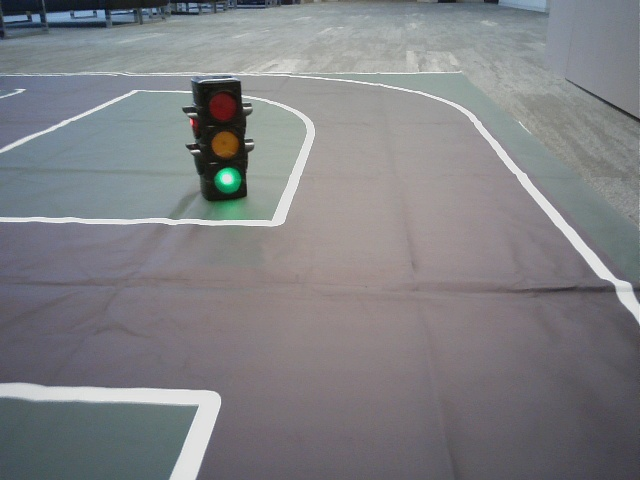green: (201, 86, 244, 198)
